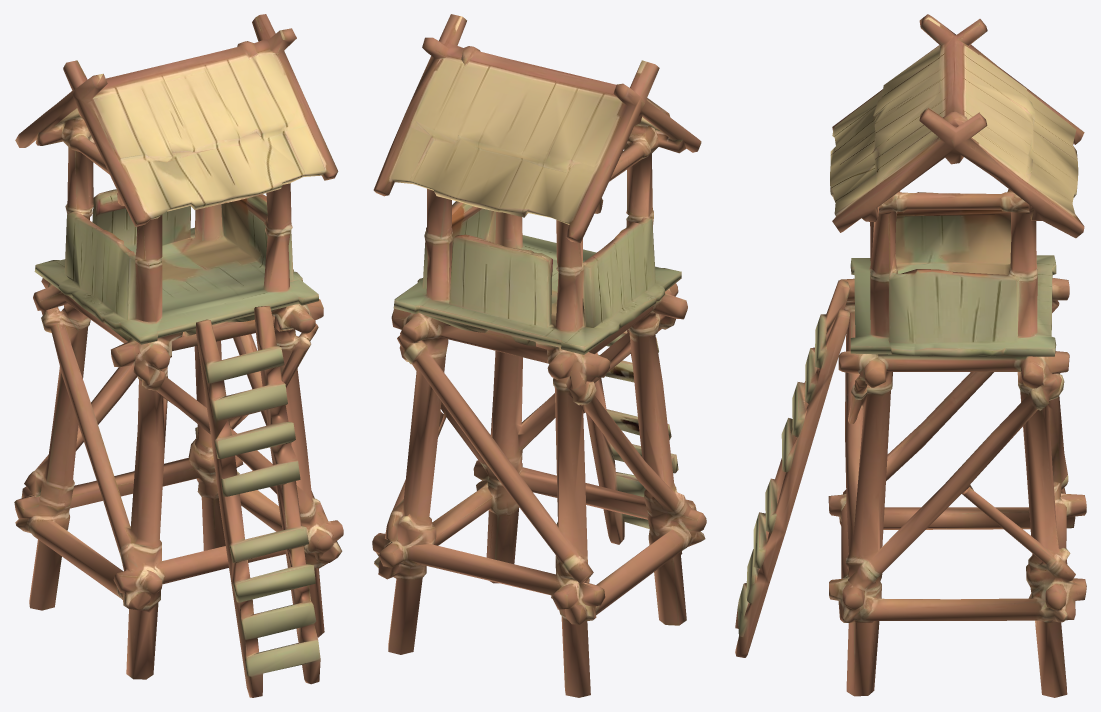
Rendered from watchtower.glb.
3 views of the same model, side by side, from view 1: azimuth 30°, elevation 25°; view 2: azimuth 150°, elevation 25°; view 3: azimuth 270°, elevation 25° (orthographic).
Visible parts, largest first — view 1: Mesh_0; view 2: Mesh_0; view 3: Mesh_0.
Part boxes in pixels (x1,y1,x2,y2): Mesh_0: (14, 14, 343, 697); Mesh_0: (372, 14, 706, 697); Mesh_0: (735, 14, 1086, 697).
Bounding box in the file's own units: 0.7699 × 1.91 × 1.04.
Materials: 1 (1 with a texture image).
